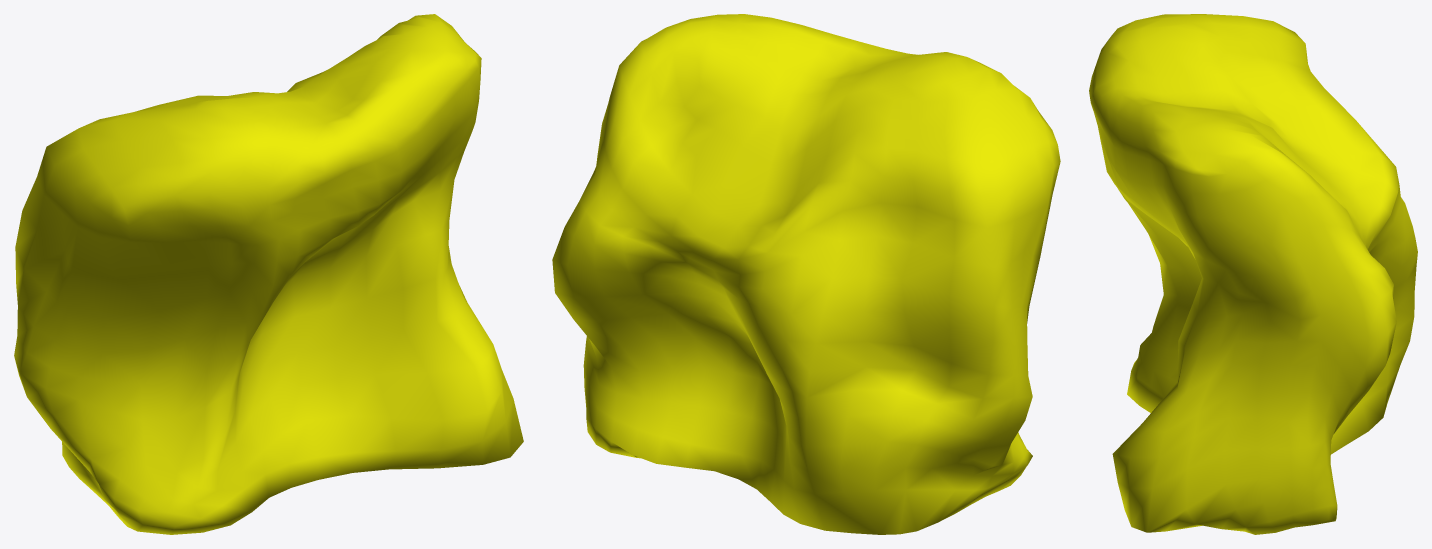
Rendered from E_Mur_01.fbx.
3 renders of one model, left to right at view 1: azimuth 30°, elevation 25°; view 2: azimuth 150°, elevation 25°; view 3: azimuth 270°, elevation 25°, orthographic. The views are drawn at different scales.
Parts seen in each view (by area): view 1: bolder96; view 2: bolder96; view 3: bolder96.
Boxes of the visible parts, <box> form: bolder96: <box>14,14,523,534</box>; bolder96: <box>552,14,1060,534</box>; bolder96: <box>1089,14,1417,534</box>.
Size of the model in its own units: 2.54 by 2.23 by 1.7.
